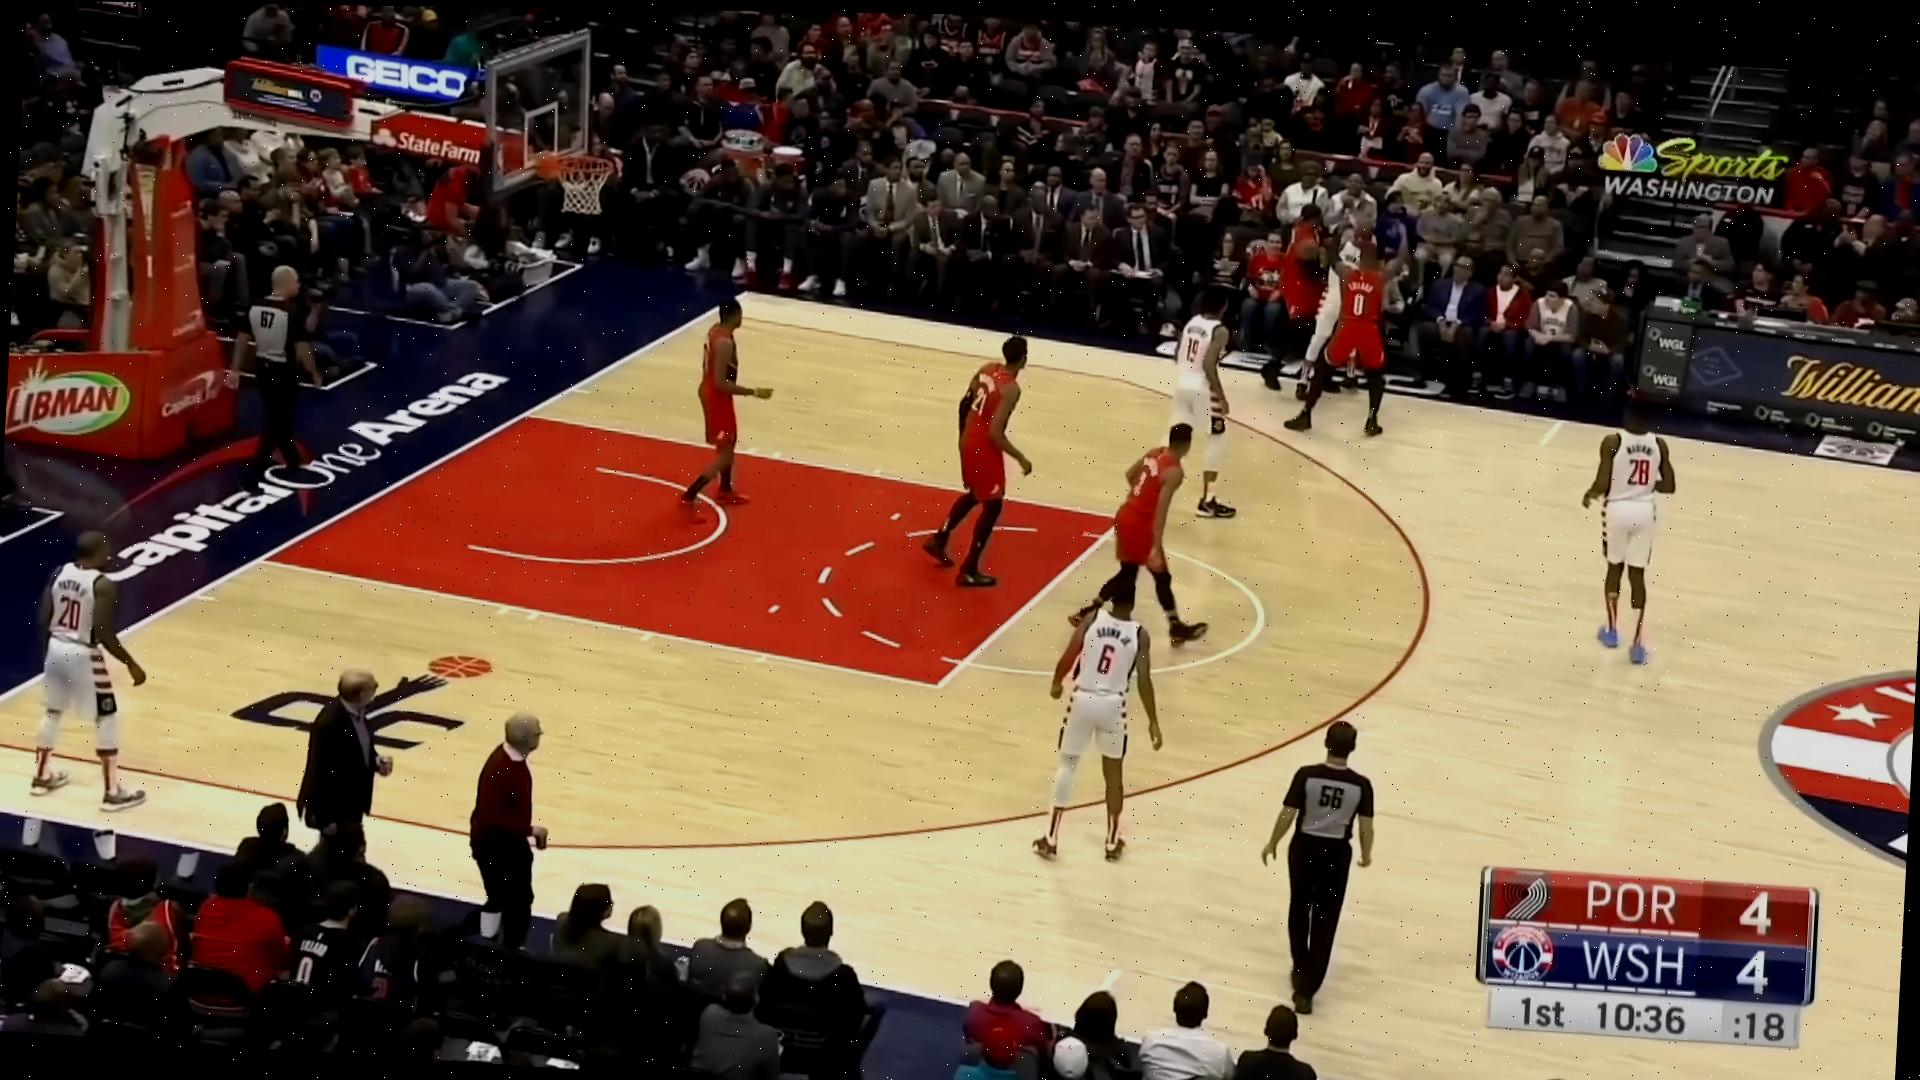foul: (1260, 199, 1406, 440)
